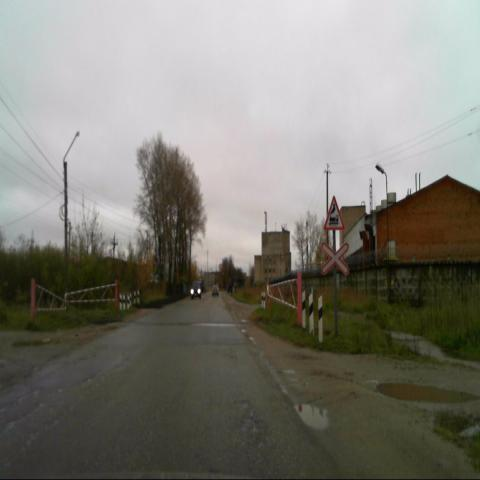1_2: (324, 195, 344, 230)
